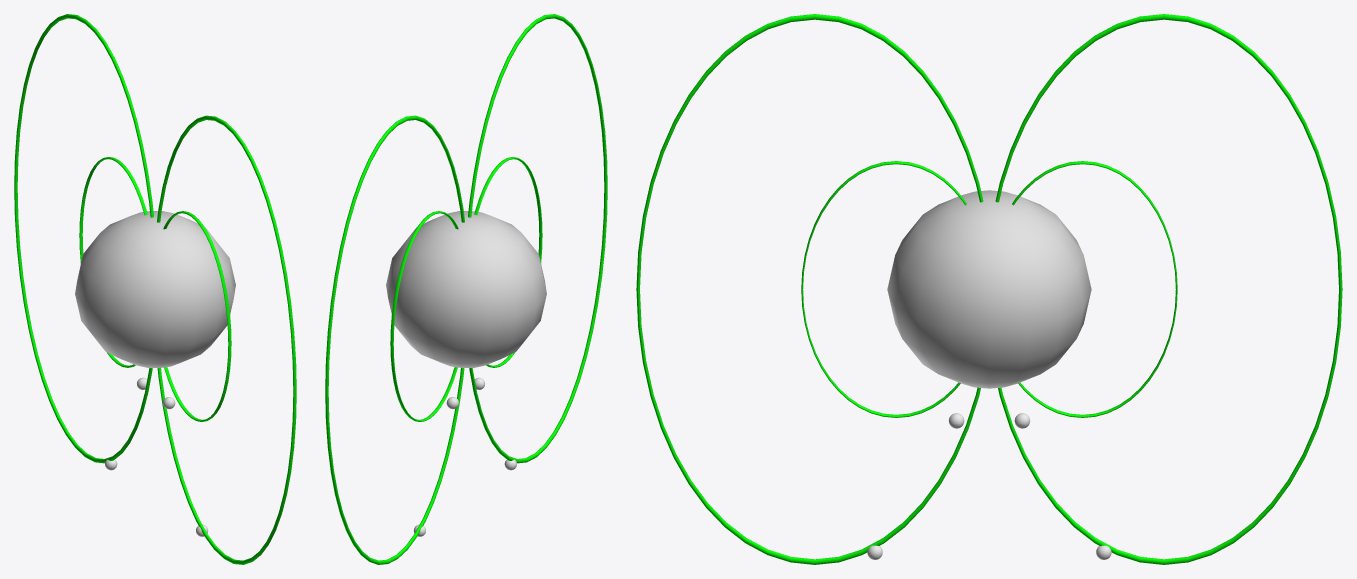
Rendered from sin_nombre.glb.
3 renders of one model, left to right at view 1: azimuth 30°, elevation 25°; view 2: azimuth 150°, elevation 25°; view 3: azimuth 270°, elevation 25°, orthographic. The views are drawn at different scales.
Visible parts, largest first — view 1: Esfera, Círculo_Bezier.007, Círculo_Bezier.006, Círculo_Bezier.002, Círculo_Bezier.003; view 2: Esfera, Círculo_Bezier.006, Círculo_Bezier.007, Círculo_Bezier.003, Círculo_Bezier.002; view 3: Esfera, Círculo_Bezier.006, Círculo_Bezier.007, Círculo_Bezier.002, Círculo_Bezier.003.
Boxes of the visible parts, box(x1,y1,x2,y2) form: Esfera: box(75, 211, 235, 367); Círculo_Bezier.007: box(157, 115, 296, 564); Círculo_Bezier.006: box(14, 14, 153, 463); Círculo_Bezier.002: box(163, 211, 231, 421); Círculo_Bezier.003: box(79, 157, 147, 367); Esfera: box(386, 211, 546, 367); Círculo_Bezier.006: box(325, 115, 464, 564); Círculo_Bezier.007: box(468, 14, 607, 463); Círculo_Bezier.003: box(390, 211, 458, 421); Círculo_Bezier.002: box(474, 157, 542, 367); Esfera: box(887, 190, 1091, 388); Círculo_Bezier.006: box(995, 14, 1342, 564); Círculo_Bezier.007: box(636, 14, 983, 564); Círculo_Bezier.002: box(801, 161, 966, 417); Círculo_Bezier.003: box(1012, 161, 1177, 417).
Bounding box in the file's own units: 2.11 × 6.26 × 7.28.
